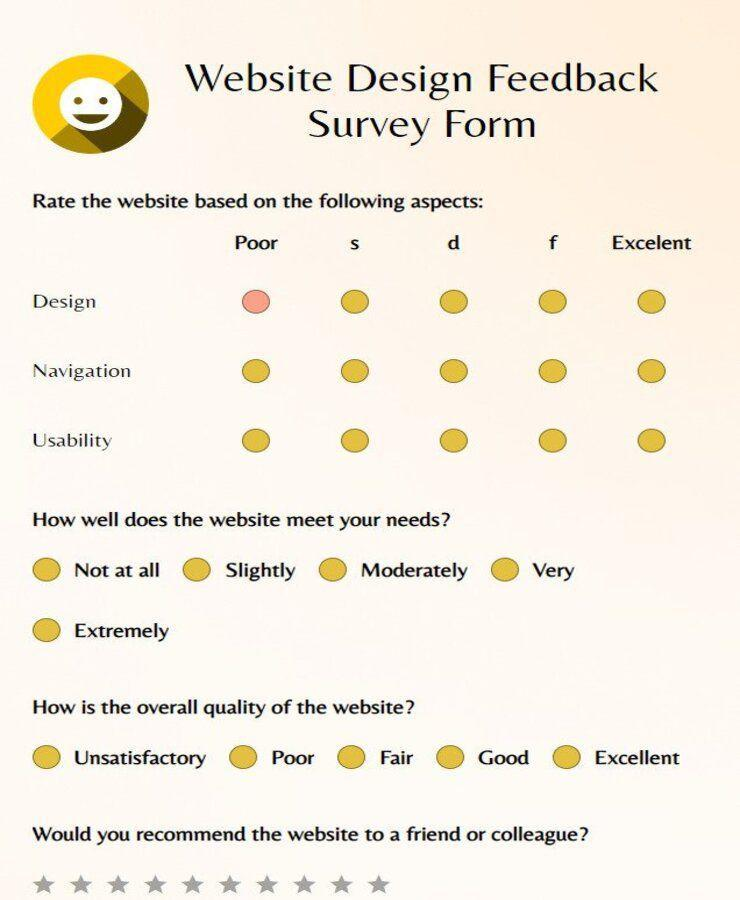label: (74, 749, 206, 772), (72, 620, 173, 646), (362, 562, 471, 583), (595, 746, 684, 770), (75, 562, 163, 582), (226, 560, 297, 584), (478, 748, 534, 769), (530, 561, 578, 583), (379, 747, 420, 769), (272, 749, 318, 767)
radio: (339, 289, 372, 318), (227, 745, 261, 773), (539, 426, 570, 456), (182, 557, 214, 586), (32, 618, 63, 647), (551, 744, 584, 771), (638, 427, 668, 456), (440, 288, 471, 316), (242, 429, 273, 457), (319, 556, 350, 584), (491, 557, 522, 585), (242, 359, 274, 386), (439, 428, 471, 455), (539, 357, 568, 386), (638, 357, 667, 386), (33, 557, 63, 585), (241, 289, 272, 316), (638, 289, 669, 316), (341, 359, 372, 386), (539, 289, 569, 316), (440, 359, 470, 386), (33, 744, 63, 771), (339, 745, 367, 772), (342, 429, 371, 454), (437, 746, 466, 770)
